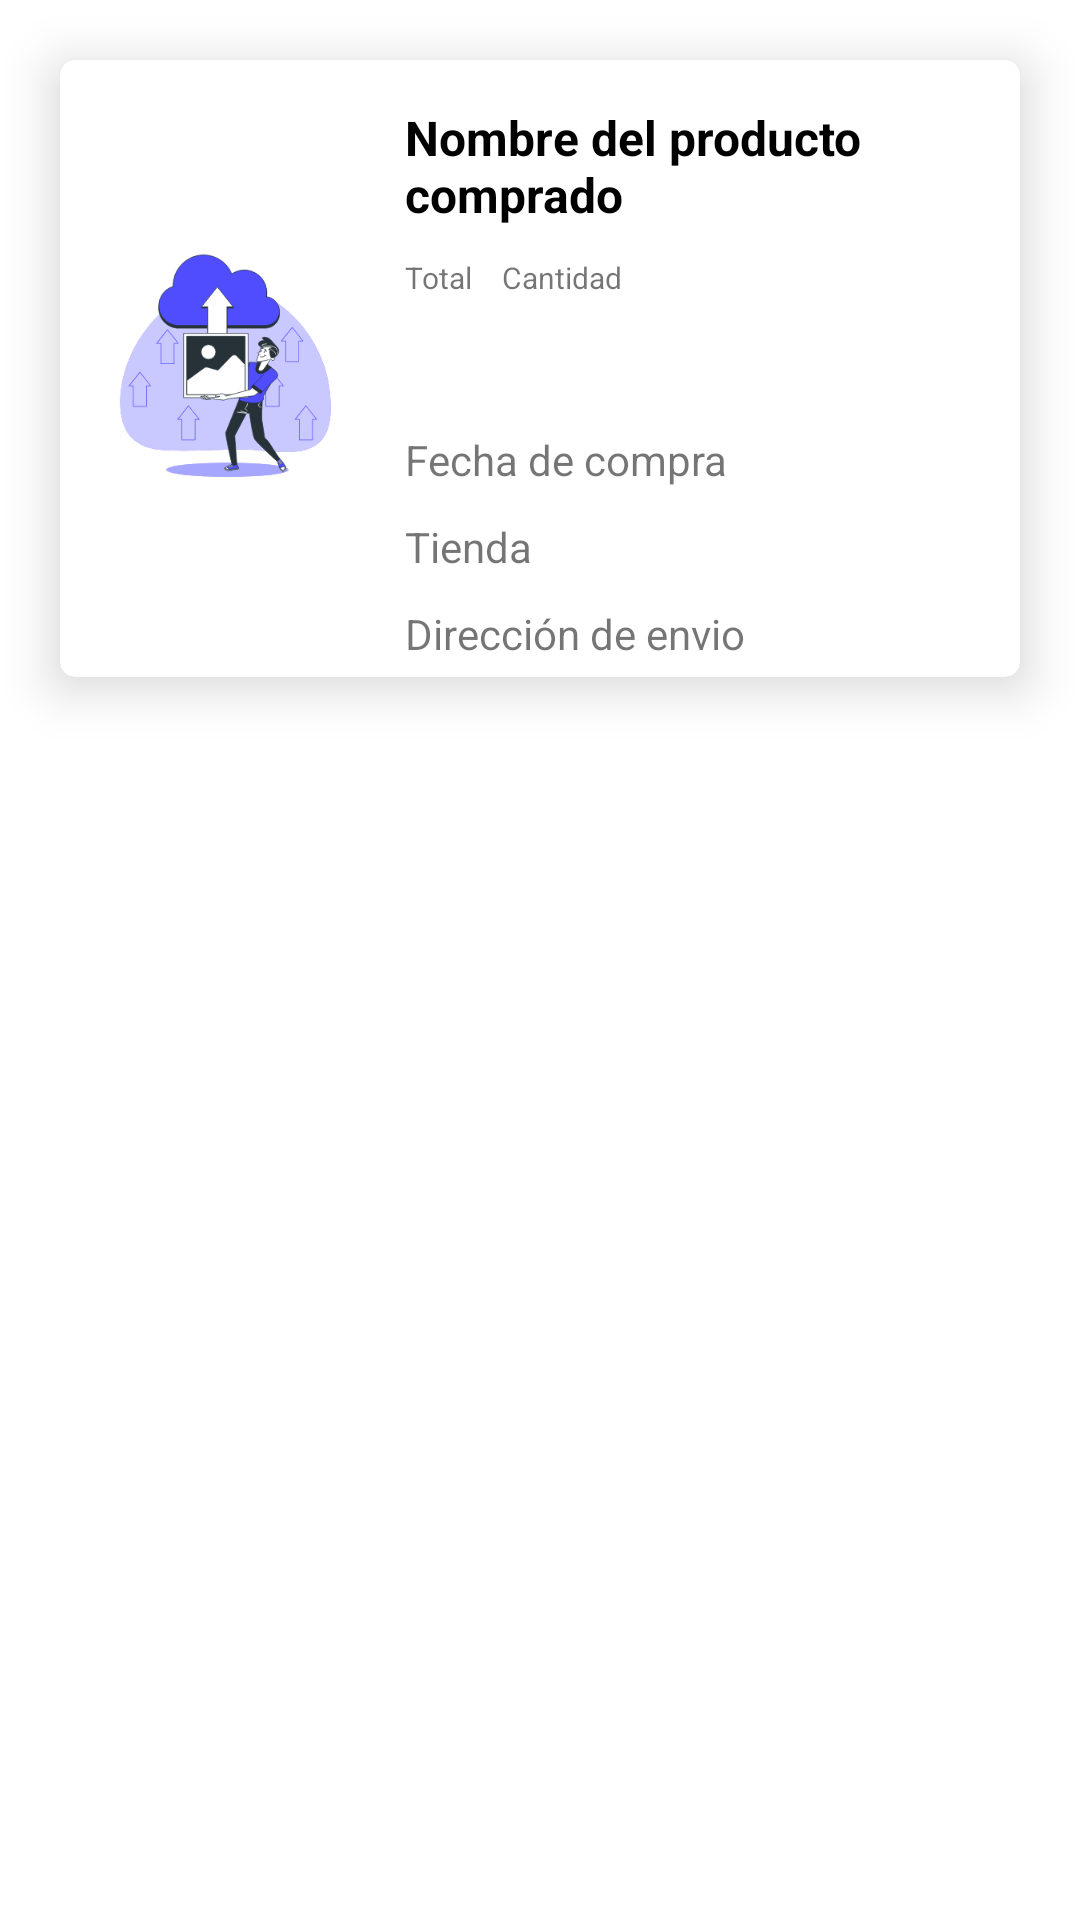

Named icons in this screenshot (1080*1920) and their centers, [x,y]:
upload bro: [225,365]
